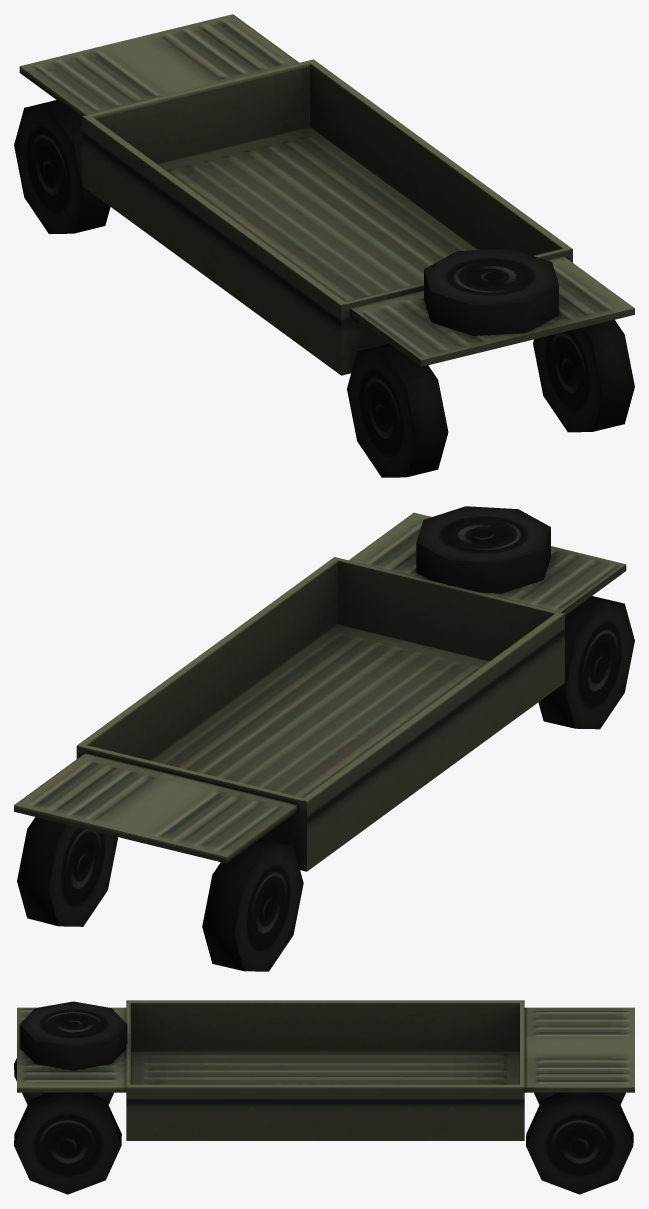
Rendered from HEMAT.DAE.
The picture shows the model from 3 angles, top to bottom: view 1: azimuth 30°, elevation 25°; view 2: azimuth 150°, elevation 25°; view 3: azimuth 270°, elevation 25°; orthographic projection. The views are drawn at different scales.
Visible parts, largest first — view 1: _1190_HEMAT; view 2: _1190_HEMAT; view 3: _1190_HEMAT.
Boxes of the visible parts, x1,y1,x2,y2 form: _1190_HEMAT: [14, 14, 634, 477]; _1190_HEMAT: [14, 506, 634, 971]; _1190_HEMAT: [14, 1000, 634, 1194].
Bounding box in the file's own units: 69.44 × 48.94 × 210.
Materials: 1 (1 with a texture image).
